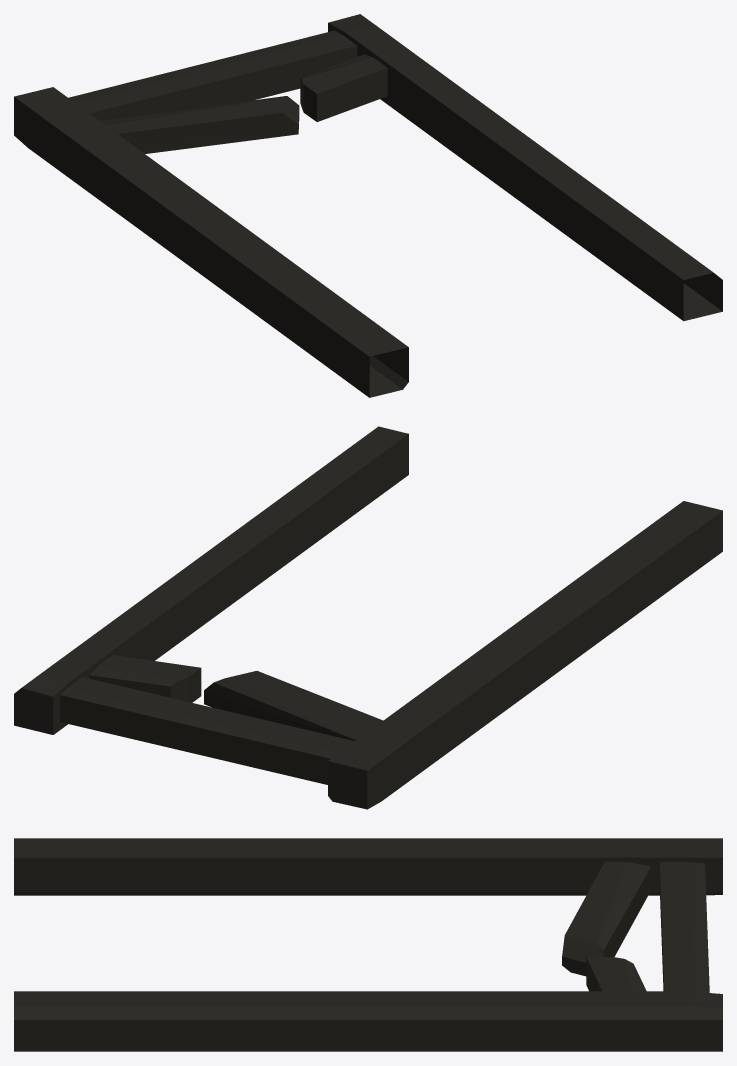
Rendered from Beam Gate 01.FBX.
3 renders of one model, top to bottom at view 1: azimuth 30°, elevation 25°; view 2: azimuth 150°, elevation 25°; view 3: azimuth 270°, elevation 25°, orthographic.
Parts seen in each view (by area): view 1: Beam Gate 01; view 2: Beam Gate 01; view 3: Beam Gate 01.
Part boxes in pixels (box(x1,y1,x2,y2)): Beam Gate 01: box(14, 14, 722, 397); Beam Gate 01: box(14, 426, 722, 809); Beam Gate 01: box(14, 838, 722, 1051).
Bounding box in the file's own units: 238 × 26.48 × 415.
